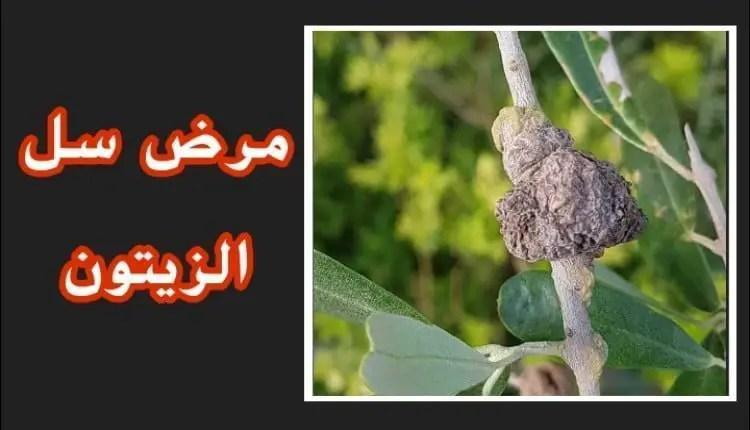Tuberculosis: (480, 92, 655, 267)
